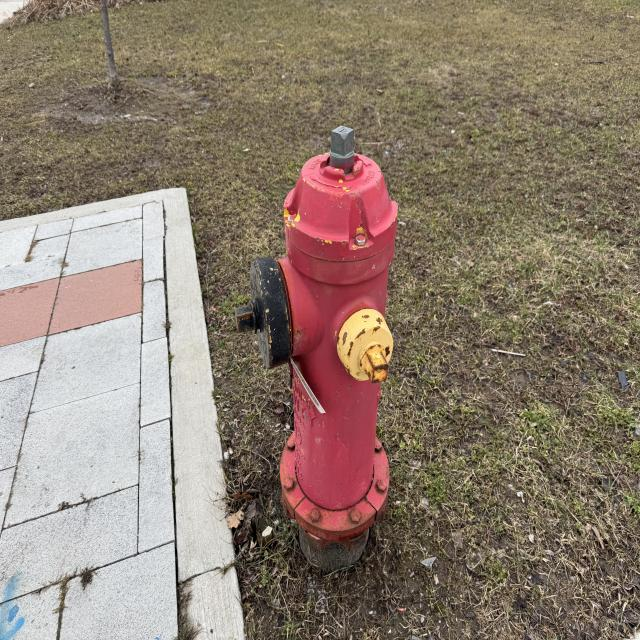Fire hydrant: (234, 124, 399, 556)
